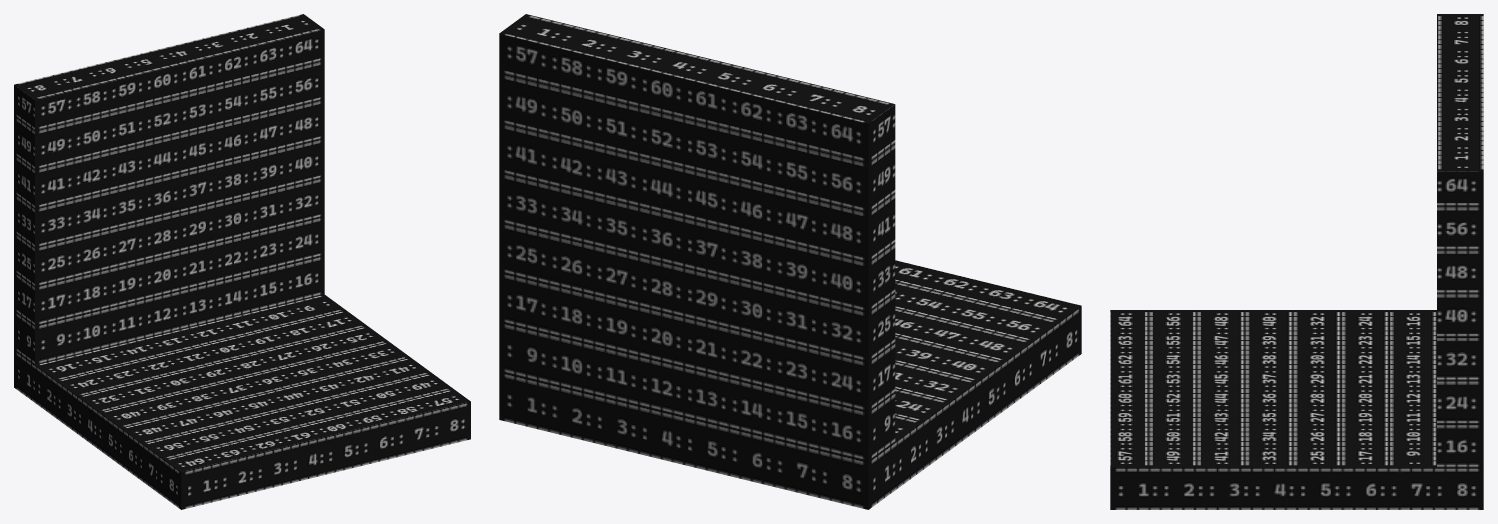
3 views of the same model, side by side, from view 1: azimuth 30°, elevation 25°; view 2: azimuth 150°, elevation 25°; view 3: azimuth 270°, elevation 25° (orthographic). The views are drawn at different scales.
Parts seen in each view (by area): view 1: 挑檐(薄); view 2: 挑檐(薄); view 3: 挑檐(薄).
Boxes of the visible parts, x1,y1,x2,y2 form: 挑檐(薄): (14,14,470,509); 挑檐(薄): (499,14,1081,509); 挑檐(薄): (1110,14,1483,509).
Bounding box in the file's own units: 100 × 100 × 100.
